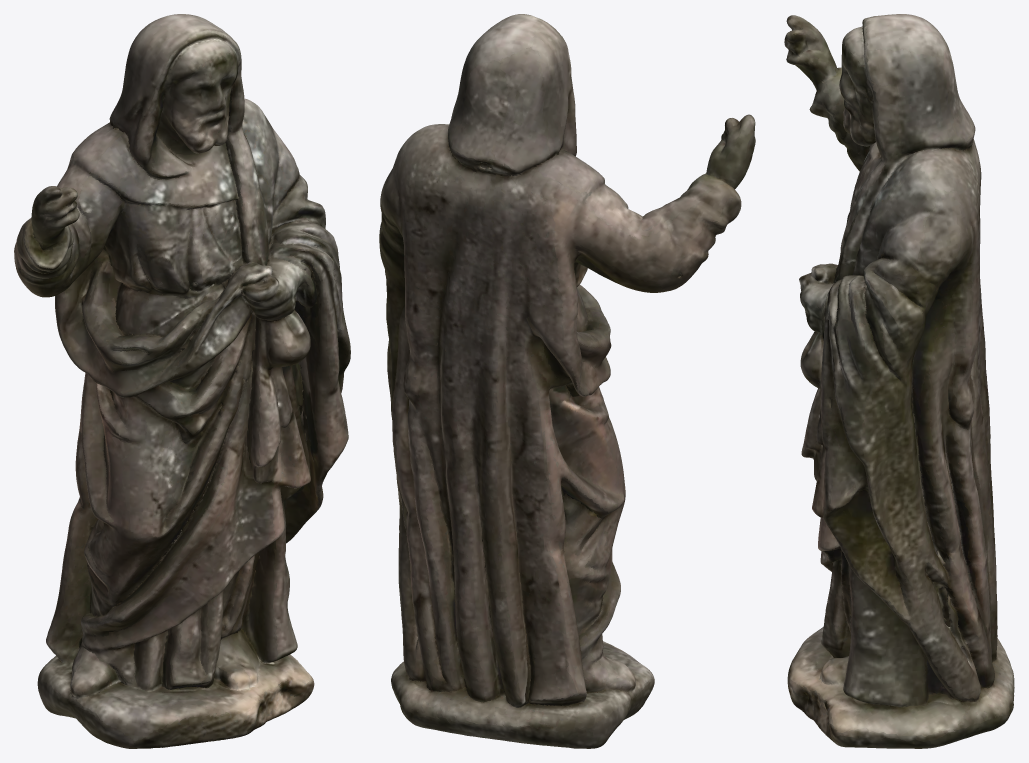
File: statue.glb
The picture shows the model from 3 angles, left to right: view 1: azimuth 30°, elevation 25°; view 2: azimuth 150°, elevation 25°; view 3: azimuth 270°, elevation 25°; orthographic projection.
Visible parts, largest first — view 1: geometry_0; view 2: geometry_0; view 3: geometry_0.
Part boxes in pixels (<box>): geometry_0: <box>14,14,350,748</box>; geometry_0: <box>379,14,755,748</box>; geometry_0: <box>784,14,1014,748</box>.
Size of the model in its own units: 0.6221 by 1.2 by 0.3664.
Materials: 1 (1 with a texture image).
